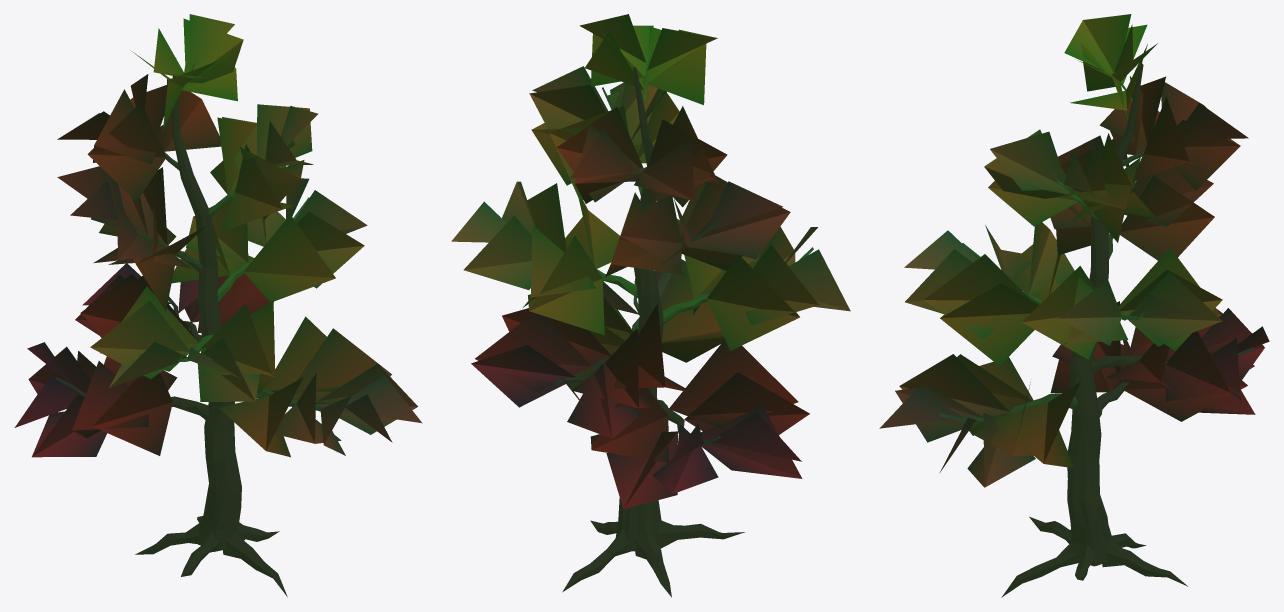
Rendered from red-maple.glb.
3 views of the same model, side by side, from view 1: azimuth 30°, elevation 25°; view 2: azimuth 150°, elevation 25°; view 3: azimuth 270°, elevation 25° (orthographic). The views are drawn at different scales.
Visible parts, largest first — view 1: RedMAple_Leaves, RedMaple_Tree; view 2: RedMAple_Leaves, RedMaple_Tree; view 3: RedMAple_Leaves, RedMaple_Tree.
Boxes of the visible parts, x1=… form: RedMAple_Leaves: x1=14, y1=14, x2=422, y2=457; RedMaple_Tree: x1=55, y1=58, x2=372, y2=597; RedMAple_Leaves: x1=451, y1=14, x2=850, y2=509; RedMaple_Tree: x1=552, y1=39, x2=813, y2=597; RedMAple_Leaves: x1=879, y1=14, x2=1269, y2=487; RedMaple_Tree: x1=938, y1=54, x2=1253, y2=597.
Size of the model in its own units: 5.05 by 8.08 by 5.13.
2 materials, 1 textured.
